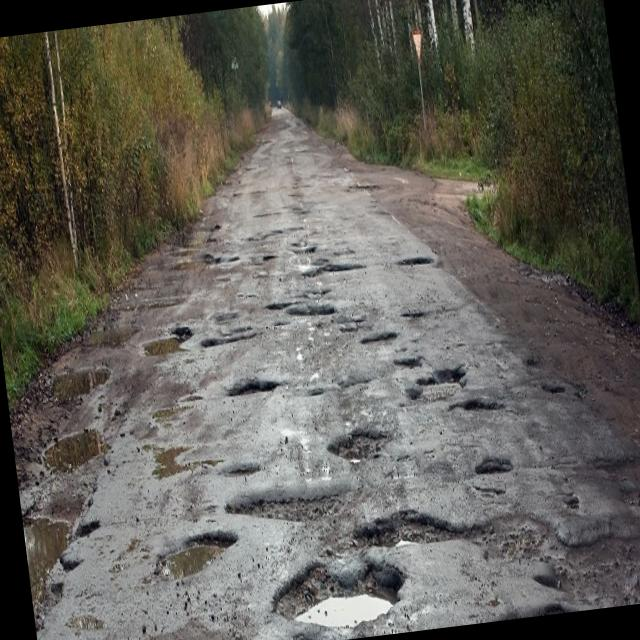Potholes: (0, 253, 147, 640), (260, 531, 411, 640), (208, 447, 352, 551), (354, 479, 490, 585), (322, 411, 400, 512), (416, 351, 508, 432), (308, 232, 381, 300), (225, 354, 294, 408), (382, 238, 430, 284)
